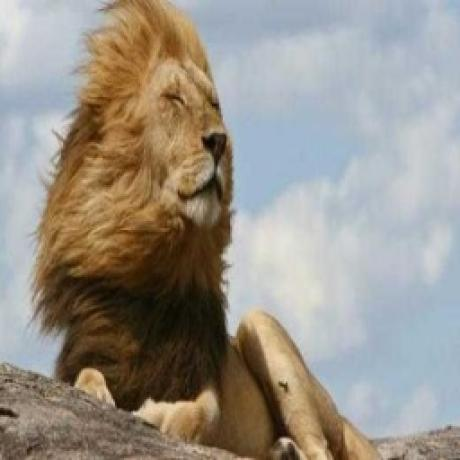Lion: (30, 0, 384, 460)
